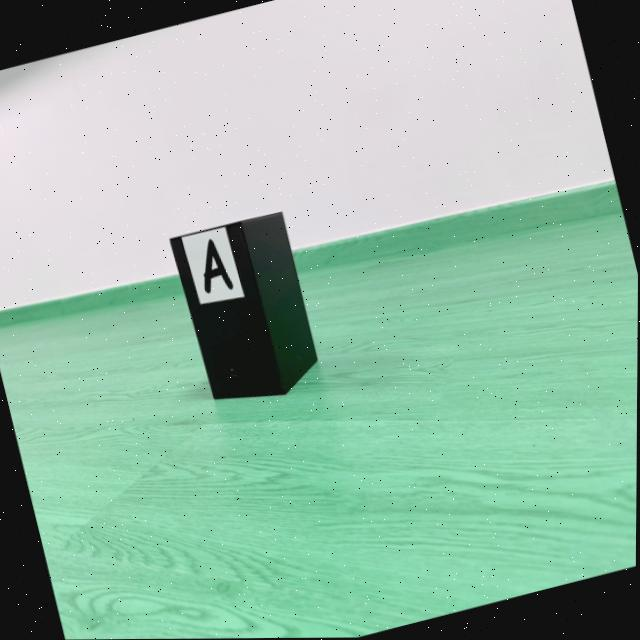A: (203, 239, 234, 293)
